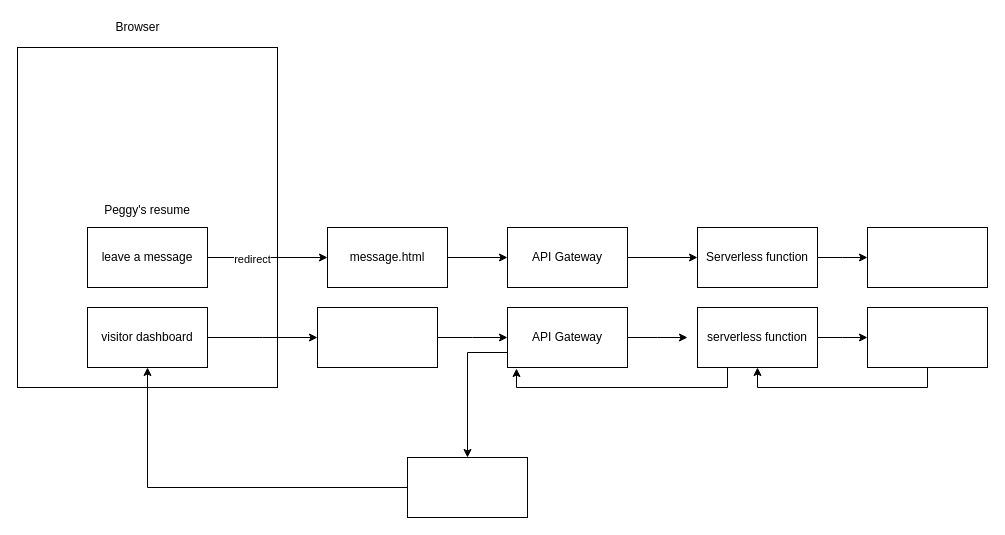
The diagram is 1005 pixels wide and 535 high, and some of its shapes have lost their labels. Here are the shapes that lost their labels. From the top down, the centre of each, then its label:
the point at 927,257: send email to peggy
the point at 377,337: access LinkedIn profile name
the point at 927,337: DynamoDB
the point at 467,487: updated number of visits
